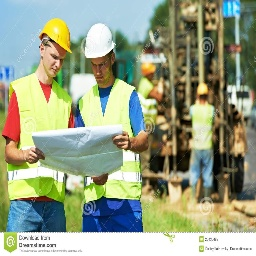helmet: (42, 18, 72, 55), (82, 24, 113, 57)
person: (74, 21, 145, 234), (9, 21, 73, 232)
vest: (79, 86, 143, 200), (16, 77, 68, 199)
